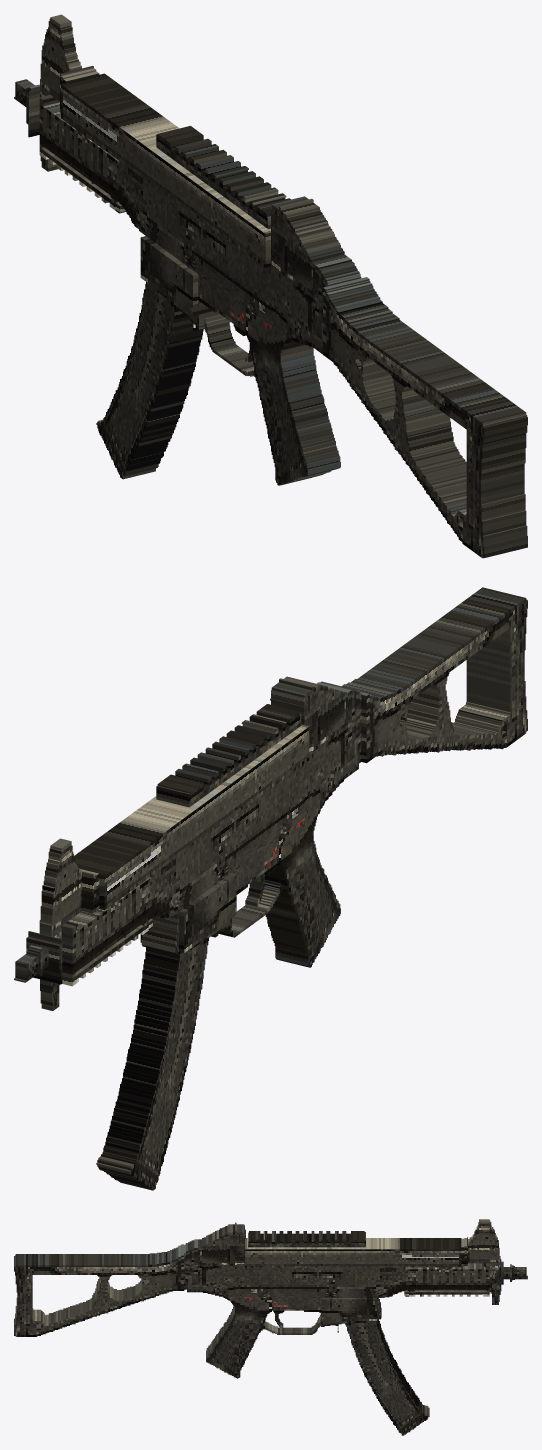
The picture shows the model from 3 angles, top to bottom: view 1: azimuth 30°, elevation 25°; view 2: azimuth 150°, elevation 25°; view 3: azimuth 270°, elevation 25°; orthographic projection. The views are drawn at different scales.
Visible parts, largest first — view 1: download_75, download_98, download_109, download_202, download_160, download_9, download_110, download_204, download_111, download_121, download_10, download_269 (+12 smaller); view 2: download_75, download_98, download_109, download_160, download_202, download_9, download_110, download_204, download_111, download_121, download_10, download_0 (+9 smaller); view 3: download_75, download_109, download_98, download_202, download_9, download_110, download_111, download_204, download_160, download_269, download_10, download_0 (+15 smaller).
Boxes of the visible parts, x1,y1,x2,y2 form: download_75: (61,73,270,267); download_98: (367,328,526,440); download_109: (120,162,270,313); download_202: (140,236,212,315); download_160: (466,463,524,556); download_9: (271,196,308,459); download_110: (43,102,75,169); download_204: (215,287,270,350); download_111: (87,138,119,200); download_121: (466,430,525,473); download_10: (280,202,319,343); download_269: (147,283,203,339); download_75: (74,724,309,910); download_98: (367,587,526,700); download_109: (152,764,303,916); download_160: (466,651,524,744); download_202: (140,873,236,952); download_9: (271,682,311,945); download_110: (67,908,108,971); download_204: (248,820,303,884); download_111: (120,877,151,939); download_121: (476,617,525,660); download_10: (284,676,319,817); download_0: (50,838,71,925); download_75: (245,1238,461,1267); download_109: (245,1268,404,1291); download_98: (15,1254,137,1274); download_202: (321,1298,376,1320); download_9: (236,1224,244,1364); download_110: (451,1263,485,1290); download_111: (406,1267,438,1290); download_204: (245,1298,303,1310); download_160: (17,1292,32,1336); download_269: (351,1321,376,1343); download_10: (228,1224,234,1300); download_0: (479,1219,489,1263).
Bounding box in the file's own units: 0.0508 × 0.4415 × 0.9768.
Materials: 1 (1 with a texture image).
